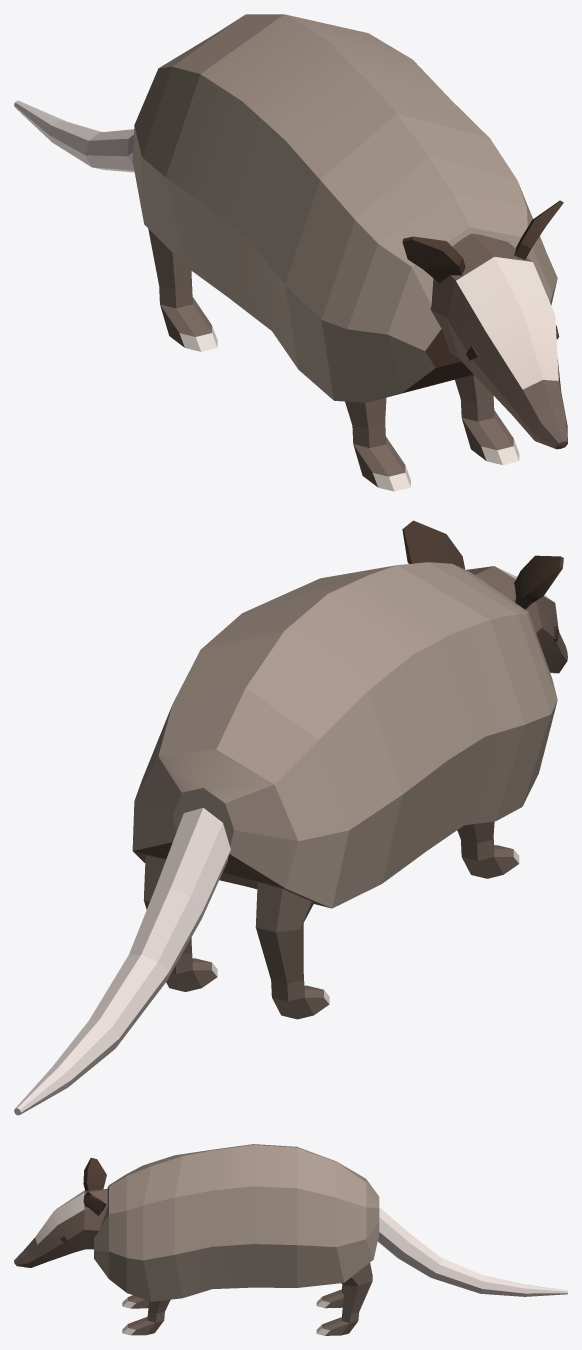
Rendered from 37B4Oz7HDqC.glb.
The picture shows the model from 3 angles, top to bottom: view 1: azimuth 30°, elevation 25°; view 2: azimuth 150°, elevation 25°; view 3: azimuth 270°, elevation 25°; orthographic projection. The views are drawn at different scales.
Visible parts, largest first — view 1: Geo_Armadillo; view 2: Geo_Armadillo; view 3: Geo_Armadillo.
Boxes of the visible parts, x1,y1,x2,y2 form: Geo_Armadillo: (14,14,567,491); Geo_Armadillo: (14,520,567,1115); Geo_Armadillo: (14,1144,567,1335).
Size of the model in its own units: 0.7402 by 1 by 2.9.
Materials: 1 (1 with a texture image).
